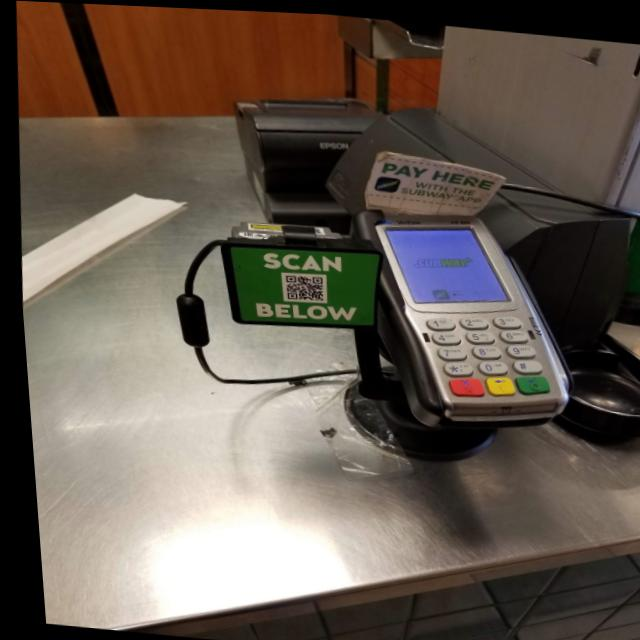QR_CODE: (269, 265, 331, 306)
